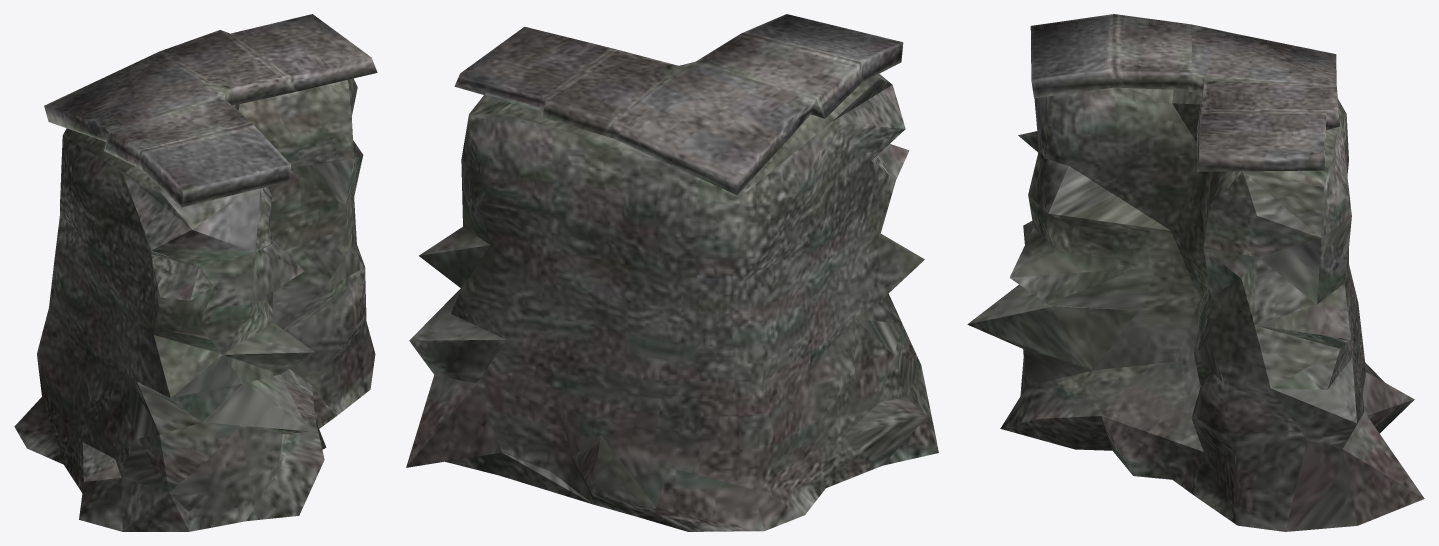
Rendered from mesh_Corner.fbx.
3 renders of one model, left to right at view 1: azimuth 30°, elevation 25°; view 2: azimuth 150°, elevation 25°; view 3: azimuth 270°, elevation 25°, orthographic. The views are drawn at different scales.
Parts seen in each view (by area): view 1: Corner; view 2: Corner; view 3: Corner.
Part boxes in pixels (x1,y1,x2,y2): Corner: [14, 14, 377, 531]; Corner: [406, 14, 938, 531]; Corner: [967, 14, 1424, 531].
Size of the model in its own units: 110 by 100 by 113.
1 material, 1 textured.
